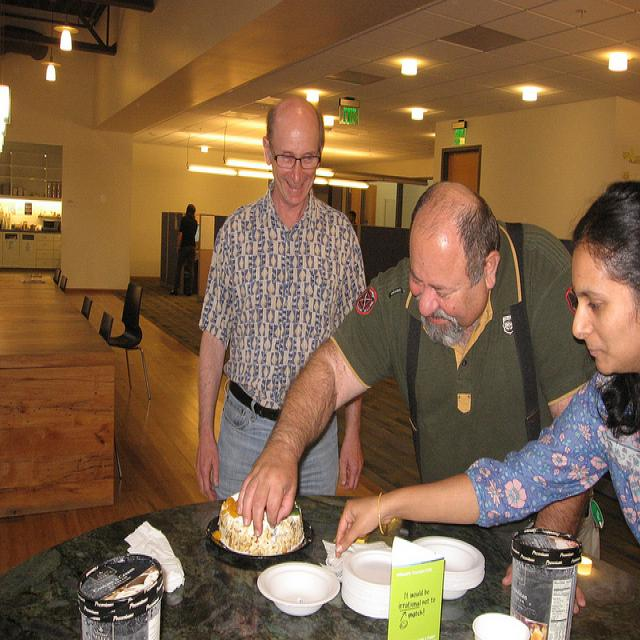chair: (108, 281, 153, 402), (80, 294, 113, 345), (53, 266, 61, 285), (60, 274, 66, 292)
dining table: (2, 488, 640, 640), (0, 277, 116, 517)
